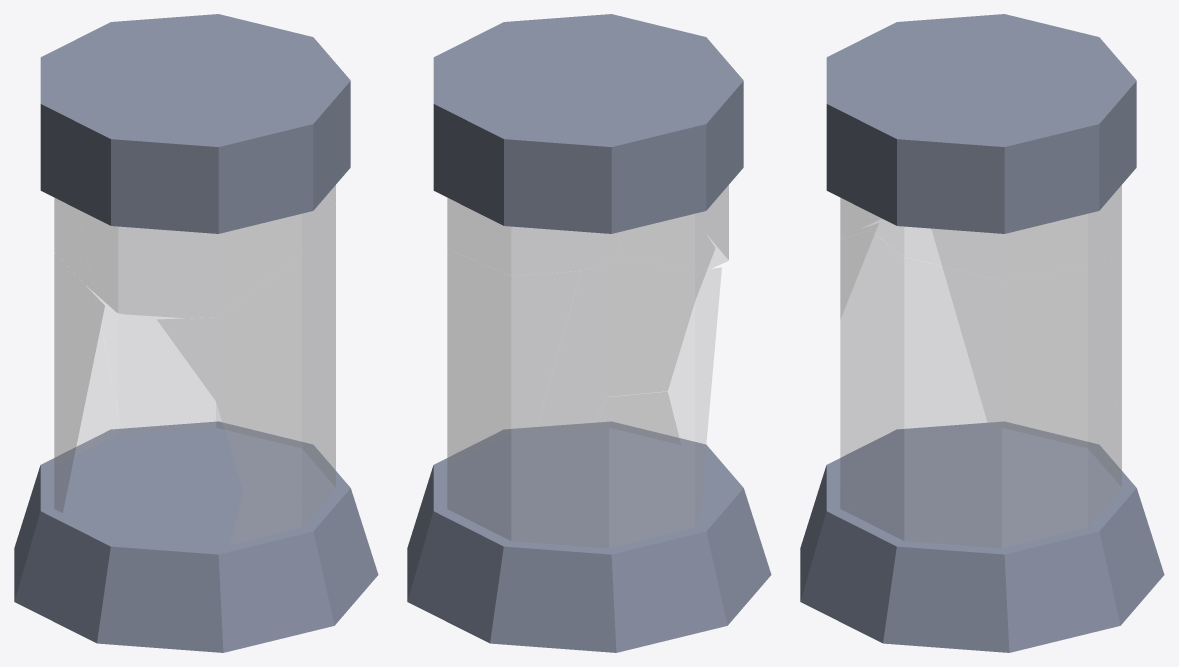
Rendered from robo-pad-destroyed-empty-1.fbx.
3 renders of one model, left to right at view 1: azimuth 30°, elevation 25°; view 2: azimuth 150°, elevation 25°; view 3: azimuth 270°, elevation 25°, orthographic.
Parts seen in each view (by area): view 1: robo-pad-destroyed-empty-1; view 2: robo-pad-destroyed-empty-1; view 3: robo-pad-destroyed-empty-1.
Boxes of the visible parts, left/top/right/bottom form: robo-pad-destroyed-empty-1: left=14, top=14, right=378, bottom=652; robo-pad-destroyed-empty-1: left=407, top=14, right=771, bottom=652; robo-pad-destroyed-empty-1: left=800, top=14, right=1164, bottom=652.
Size of the model in its own units: 616 by 909 by 607.
